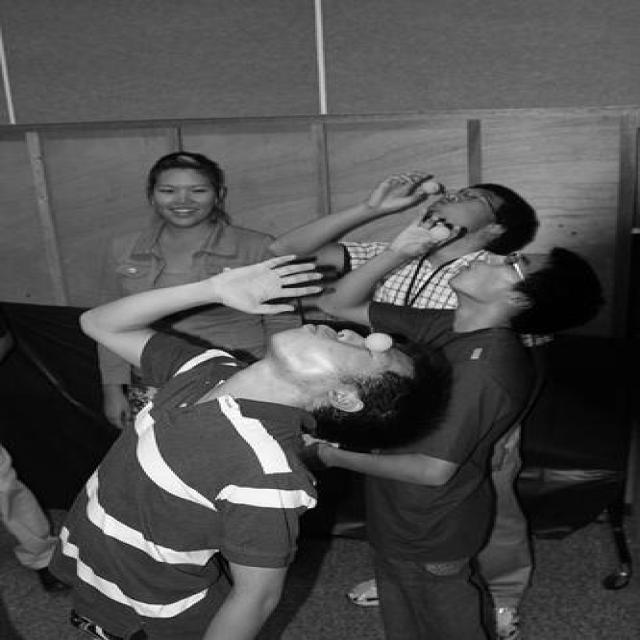ping-pong-ball: (365, 332, 393, 352), (428, 224, 450, 242), (421, 181, 443, 195)
